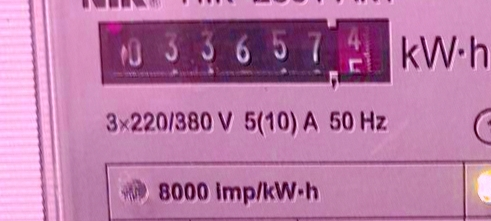0: (125, 34, 146, 71)
3: (163, 30, 182, 65), (199, 29, 217, 64)
4: (346, 24, 365, 54)
5: (269, 27, 291, 63)
6: (233, 32, 253, 67)
7: (306, 29, 324, 65)
screen: (87, 12, 400, 94)
